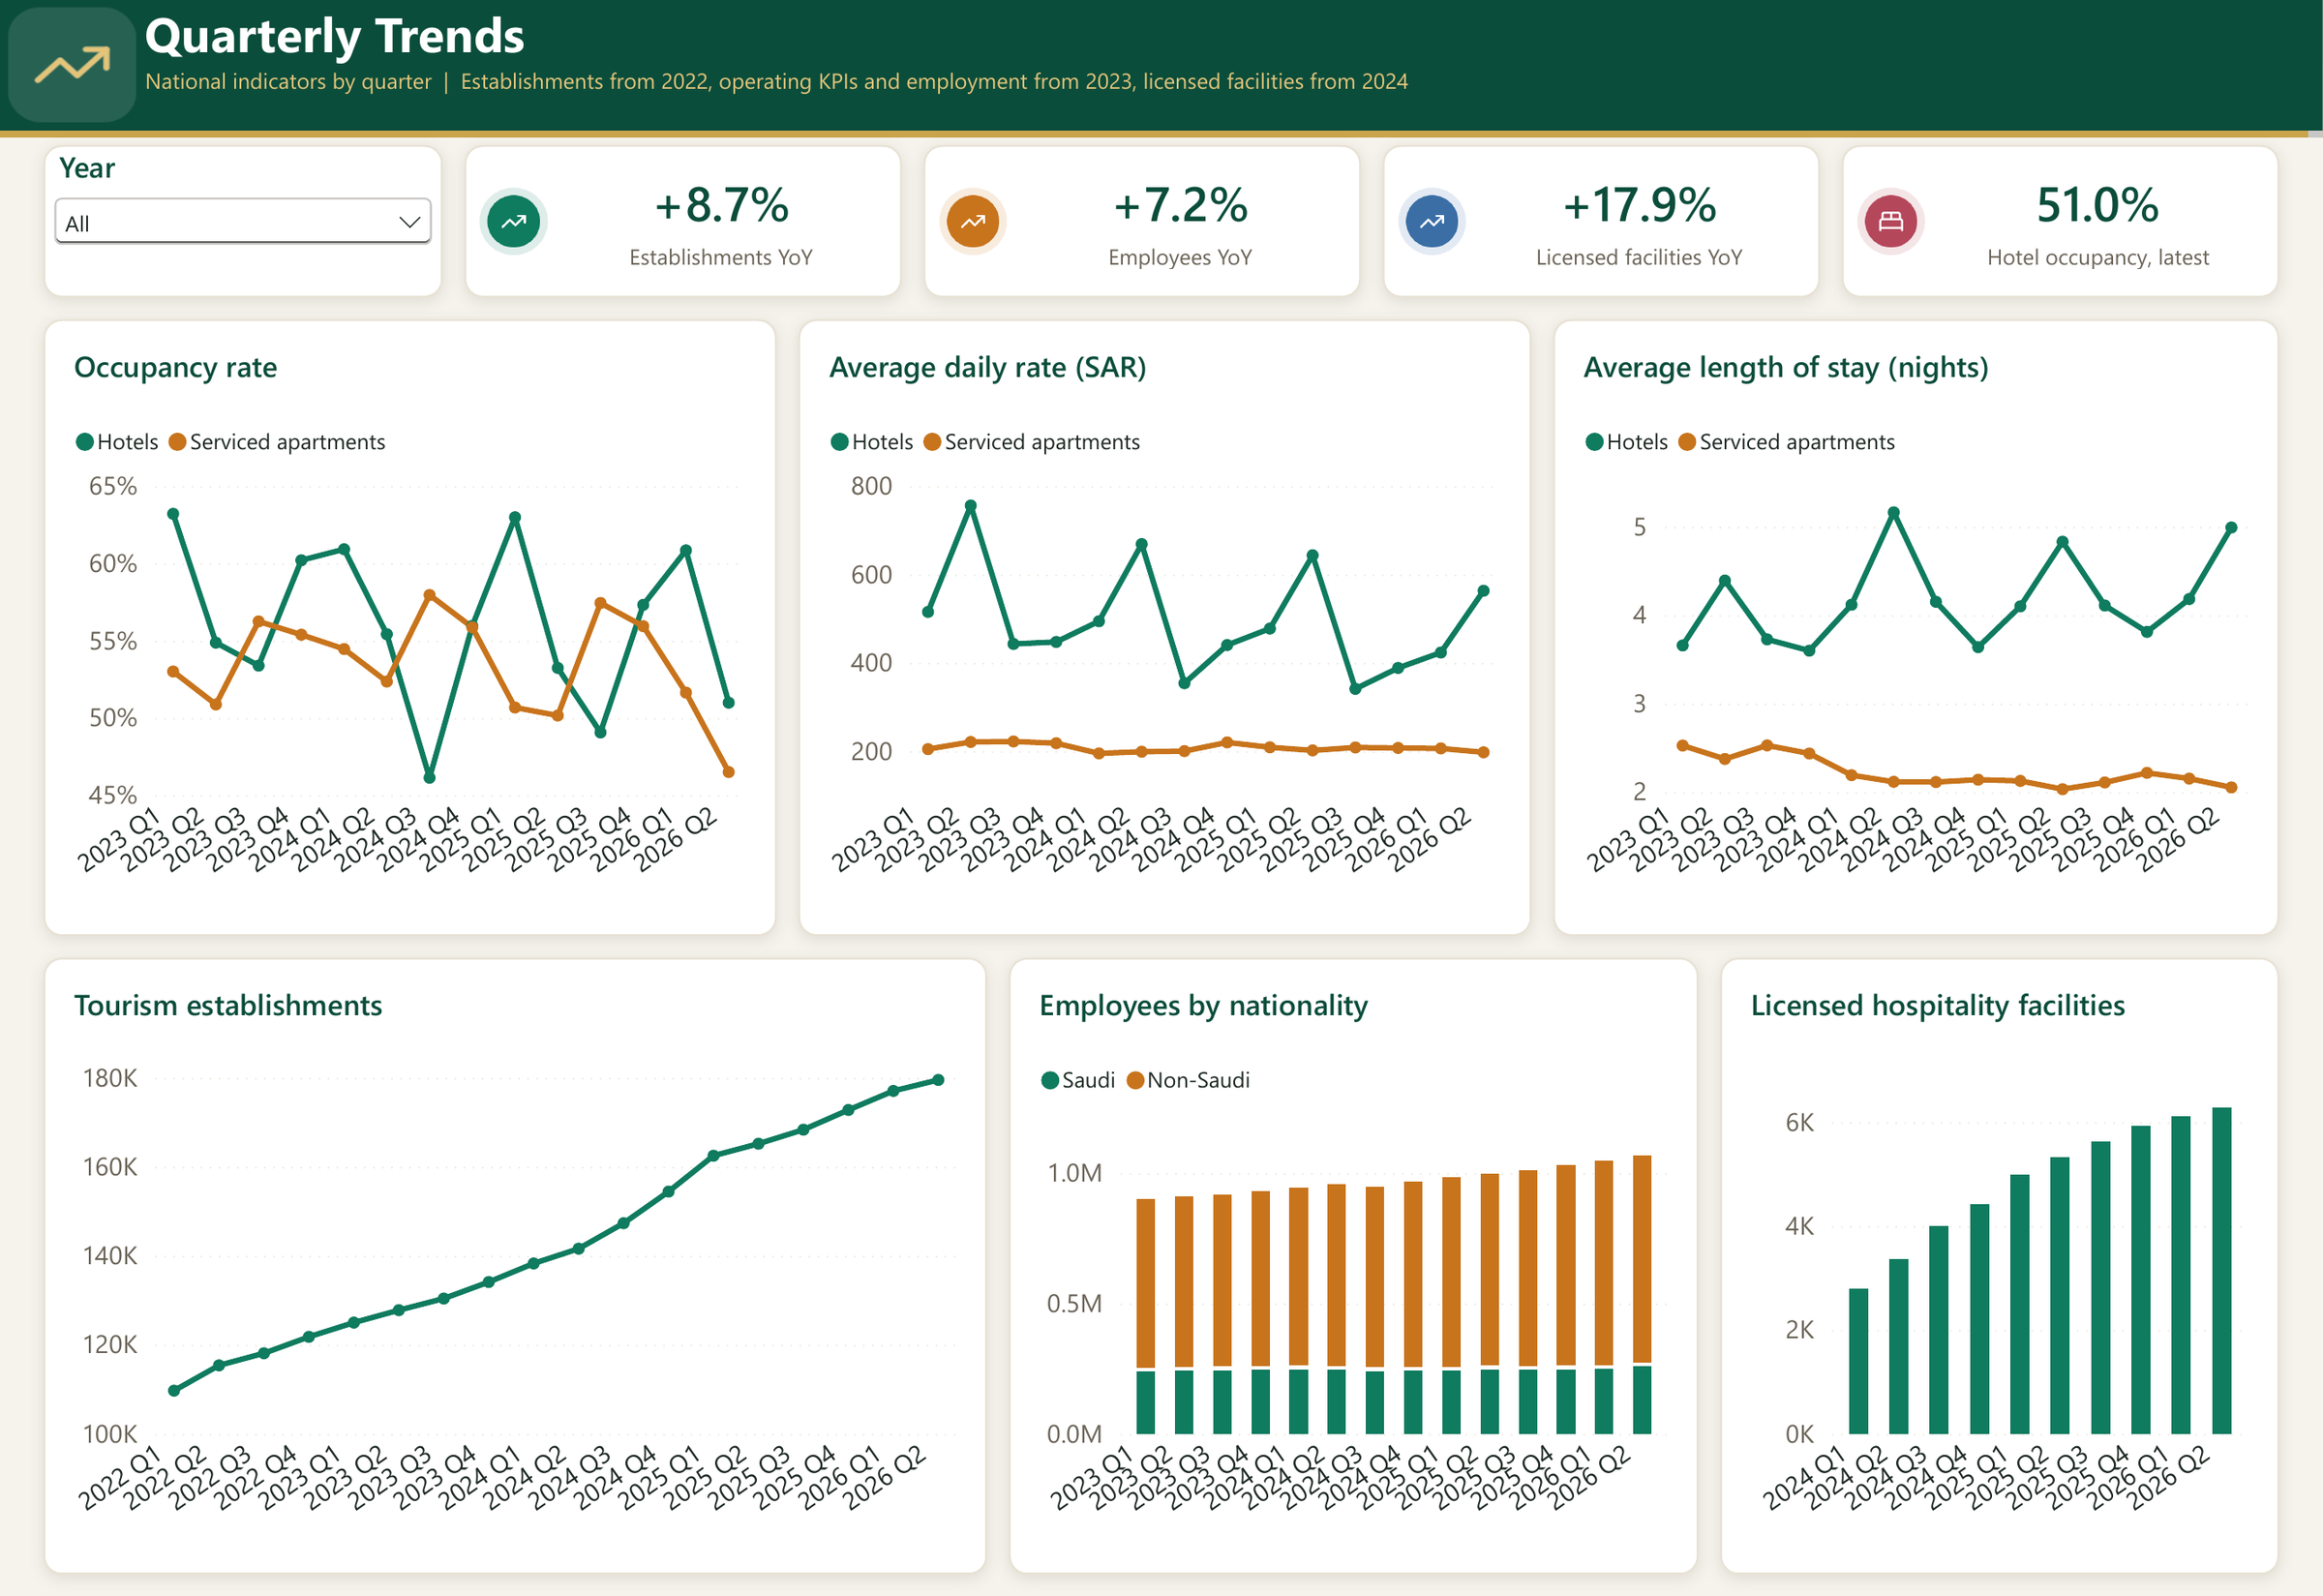

What the dashboard file says about the page in this screenshot:
{"tool":"powerbi","page":{"name":"Quarterly Trends","canvas":[1280,880],"ordinal":4},"visuals":[{"type":"textbox","box":[80,0,1200,72],"z":0},{"type":"image","box":[0,0,80,72],"z":1},{"type":"textbox","box":[0,72,1280,4],"z":2},{"type":"slicer","fields":{"Values":["Dim_Quarter.Year"]},"box":[24,80,220,84],"z":1000},{"type":"textbox","box":[256,80,241,84],"z":1998},{"type":"card","fields":{"Values":["_Measures.Establishments YoY %"]},"box":[302,80,191,84],"z":2000},{"type":"image","box":[264,103,38,38],"z":2001},{"type":"textbox","box":[509,80,241,84],"z":2998},{"type":"card","fields":{"Values":["_Measures.Employees YoY %"]},"box":[555,80,191,84],"z":3000},{"type":"image","box":[517,103,38,38],"z":3001},{"type":"textbox","box":[762,80,241,84],"z":3998},{"type":"card","fields":{"Values":["_Measures.Licensed Facilities YoY %"]},"box":[808,80,191,84],"z":4000},{"type":"image","box":[770,103,38,38],"z":4001},{"type":"textbox","box":[1015,80,241,84],"z":4998},{"type":"card","fields":{"Values":["_Measures.Latest Hotel Occupancy (published)"]},"box":[1061,80,191,84],"z":5000},{"type":"image","box":[1023,103,38,38],"z":5001},{"type":"lineChart","title":"Occupancy rate","fields":{"Category":["Dim_Quarter.Quarter_Label"],"Y":["_Measures.Q Hotel Occupancy","_Measures.Q Apartment Occupancy"]},"box":[24,176,404,340],"z":6000},{"type":"lineChart","title":"Average daily rate (SAR)","fields":{"Category":["Dim_Quarter.Quarter_Label"],"Y":["_Measures.Q Hotel ADR (SAR)","_Measures.Q Apartment ADR (SAR)"]},"box":[440,176,404,340],"z":7000},{"type":"lineChart","title":"Average length of stay (nights)","fields":{"Category":["Dim_Quarter.Quarter_Label"],"Y":["_Measures.Q Hotel Length of Stay","_Measures.Q Apartment Length of Stay"]},"box":[856,176,400,340],"z":8000},{"type":"lineChart","title":"Tourism establishments","fields":{"Category":["Dim_Quarter.Quarter_Label"],"Y":["_Measures.Q Tourism Establishments"]},"box":[24,528,520,340],"z":9000},{"type":"columnChart","title":"Employees by nationality","fields":{"Category":["Dim_Quarter.Quarter_Label"],"Y":["_Measures.Q Saudi Employees","_Measures.Q Non-Saudi Employees"]},"box":[556,528,380,340],"z":10000},{"type":"clusteredColumnChart","title":"Licensed hospitality facilities","fields":{"Category":["Dim_Quarter.Quarter_Label"],"Y":["_Measures.Q Licensed Facilities"]},"box":[948,528,308,340],"z":11000}]}

Visuals, with their boxes in screenshot pixels (x1, y1, x2, y2), scaled from the page's 1280x880 canvas onto the 2323x1596 screenshot:
textbox: bbox=[145, 0, 2322, 131]
image: bbox=[0, 0, 145, 131]
textbox: bbox=[0, 131, 2322, 137]
slicer - Dim_Quarter.Year: bbox=[44, 145, 443, 297]
textbox: bbox=[465, 145, 902, 297]
card - _Measures.Establishments YoY %: bbox=[548, 145, 894, 297]
image: bbox=[479, 187, 548, 256]
textbox: bbox=[923, 145, 1361, 297]
card - _Measures.Employees YoY %: bbox=[1008, 145, 1354, 297]
image: bbox=[938, 187, 1008, 256]
textbox: bbox=[1383, 145, 1821, 297]
card - _Measures.Licensed Facilities YoY %: bbox=[1466, 145, 1813, 297]
image: bbox=[1398, 187, 1466, 256]
textbox: bbox=[1842, 145, 2279, 297]
card - _Measures.Latest Hotel Occupancy (published): bbox=[1925, 145, 2273, 297]
image: bbox=[1856, 187, 1925, 256]
"Occupancy rate" lineChart: bbox=[44, 319, 776, 936]
"Average daily rate (SAR)" lineChart: bbox=[799, 319, 1531, 936]
"Average length of stay (nights)" lineChart: bbox=[1554, 319, 2279, 936]
"Tourism establishments" lineChart: bbox=[44, 957, 987, 1575]
"Employees by nationality" columnChart: bbox=[1009, 957, 1699, 1575]
"Licensed hospitality facilities" clusteredColumnChart: bbox=[1721, 957, 2279, 1575]
